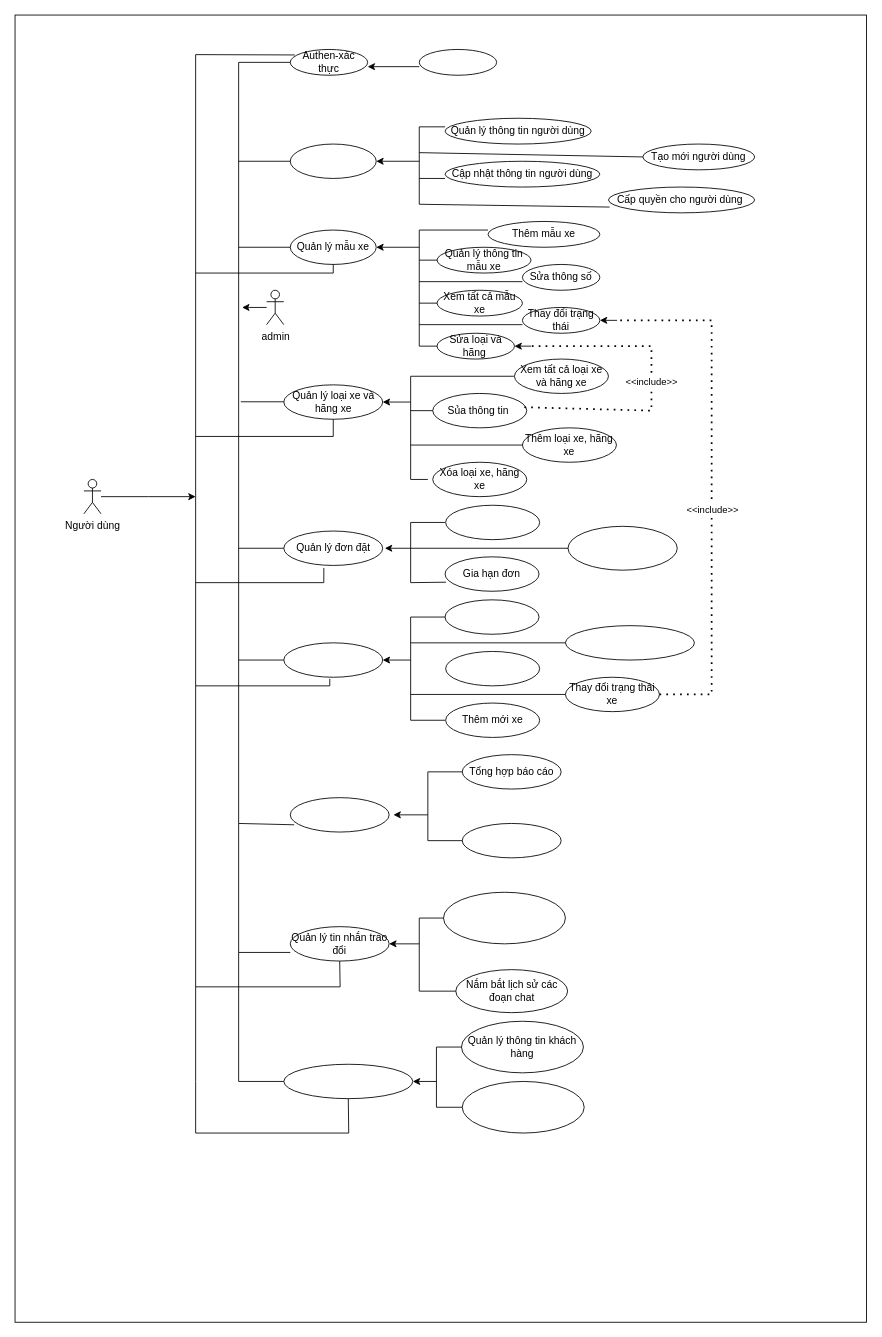
Image size: 882x1337. Some labels were removed from this diagram. Each missing label, with the centre of its shape:
"Báo cáo thống kê" goes at point 339,814.
"Cập nhật thông tin xe" goes at point 492,668.
"cập nhật trạng thái đơn" goes at point 492,522.
"Quản lý khách hàng" goes at point 348,1081.
"Quản lý người dùng" goes at point 332,160.
"Quản lý thông tin đơn" goes at point 622,547.
"Quản lý xe" goes at point 333,659.
"Quản lý xe đặt và xe trống" goes at point 491,616.
"Quản lý được các đơn thuê xe của khách" goes at point 522,1107.
"Quản lý được khách hàng thuê xe" goes at point 629,642.
"Trả lời, giao tiếp với khách hàng" goes at point 504,917.
"Xem báo cáo" goes at point 511,840.
"Đăng nhập" goes at point 457,62.
